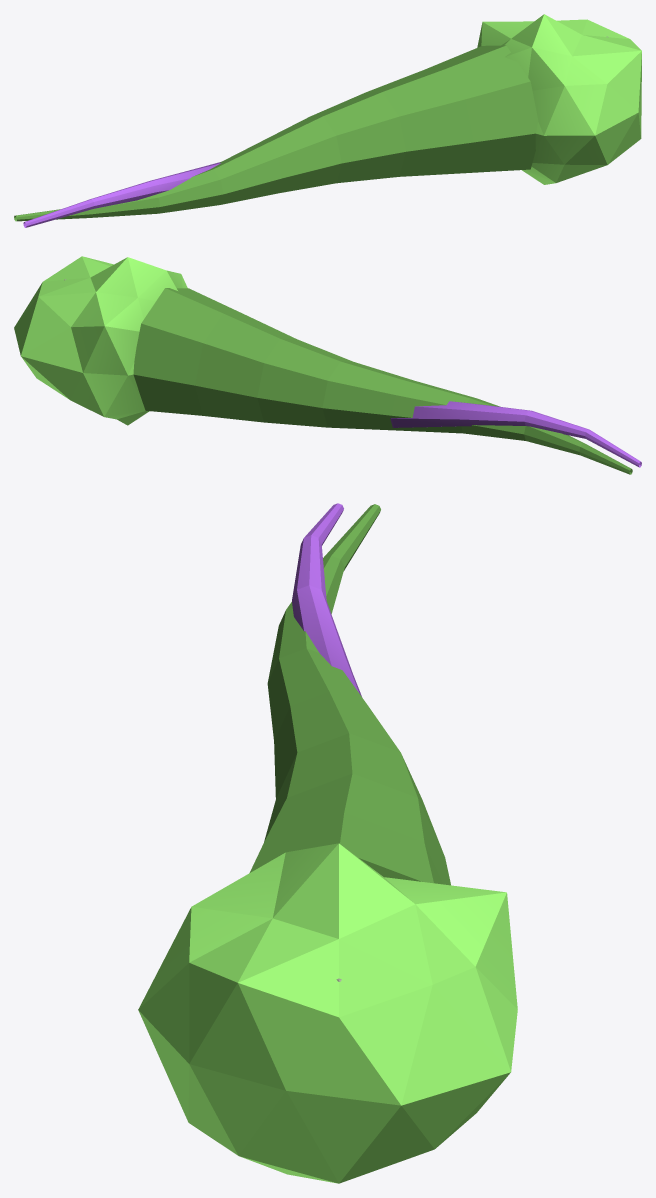
File: bolt.glb
The picture shows the model from 3 angles, top to bottom: view 1: azimuth 30°, elevation 25°; view 2: azimuth 150°, elevation 25°; view 3: azimuth 270°, elevation 25°; orthographic projection. The views are drawn at different scales.
Parts seen in each view (by area): view 1: core; view 2: core; view 3: core.
Boxes of the visible parts, x1,y1,x2,y2 form: core: (14,14,641,227); core: (14,256,641,474); core: (138,503,517,1183).
Bounding box in the file's own units: 0.8997 × 0.2374 × 0.2423.
